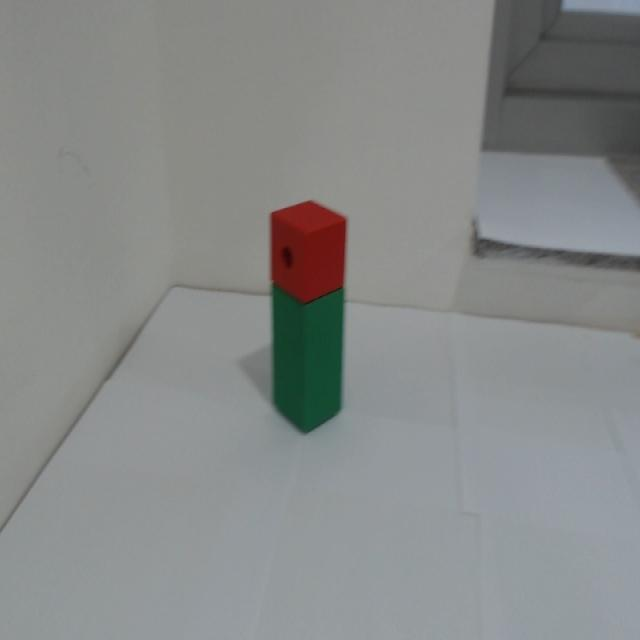cube: (269, 195, 363, 300)
